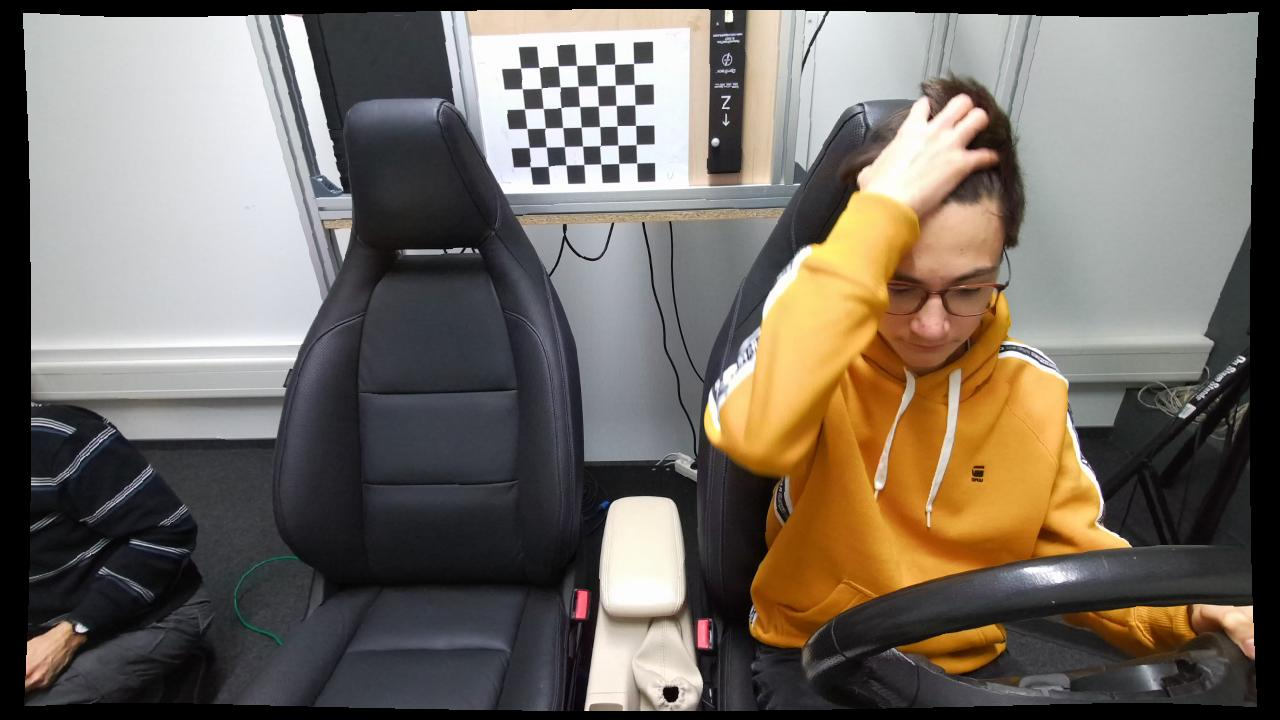Distracted: (698, 71, 1094, 713)
